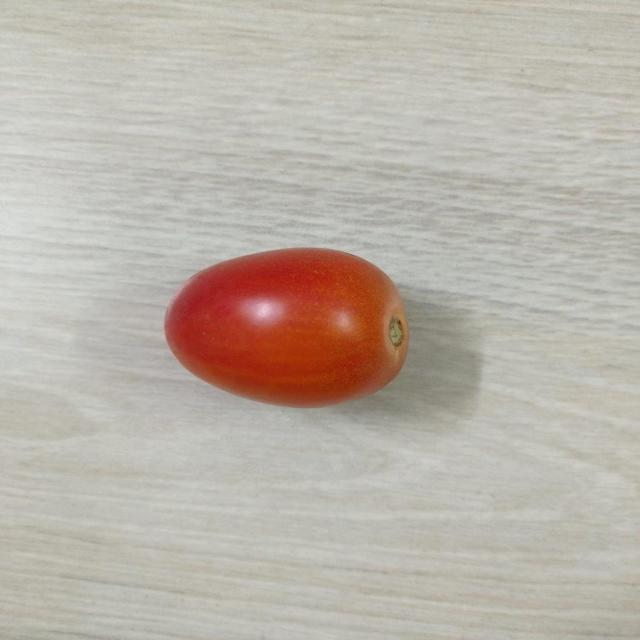Tomato: (159, 244, 418, 410)
